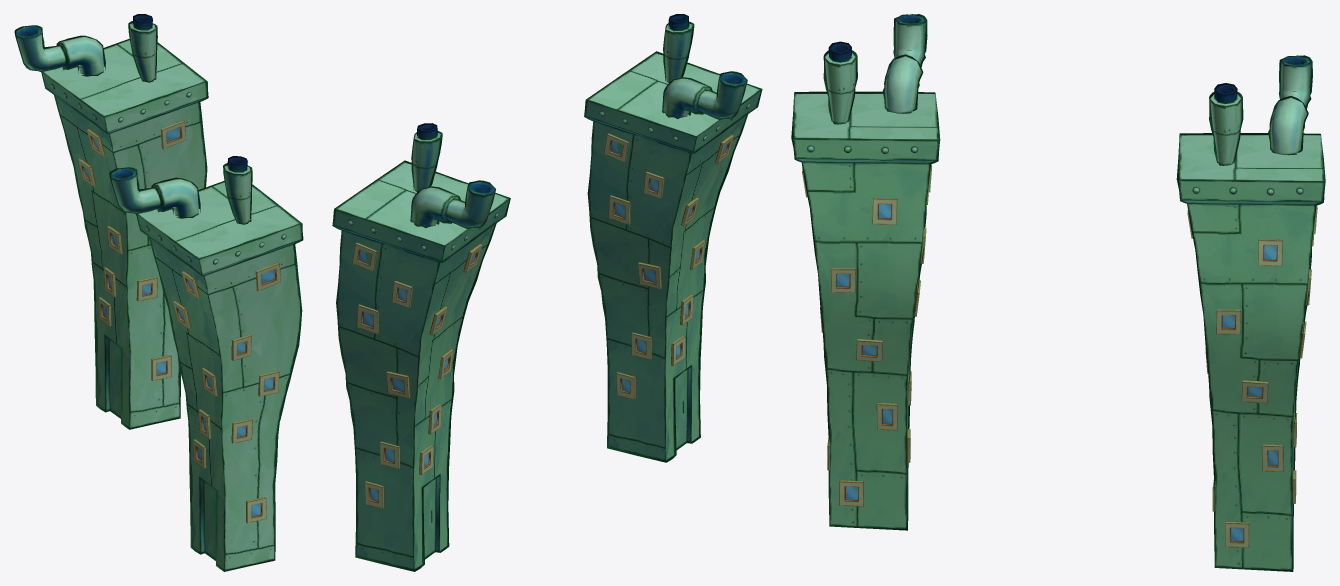
3 views of the same model, side by side, from view 1: azimuth 30°, elevation 25°; view 2: azimuth 150°, elevation 25°; view 3: azimuth 270°, elevation 25° (orthographic). The views are drawn at different scales.
Visible parts, largest first — view 1: Object_18; view 2: Object_18; view 3: Object_18.
Part boxes in pixels (x1,y1,x2,y2): Object_18: [14, 14, 303, 571]; Object_18: [332, 14, 762, 571]; Object_18: [791, 14, 1325, 571].
Size of the model in its own units: 39.45 by 68.08 by 71.37.
1 material, 1 textured.
